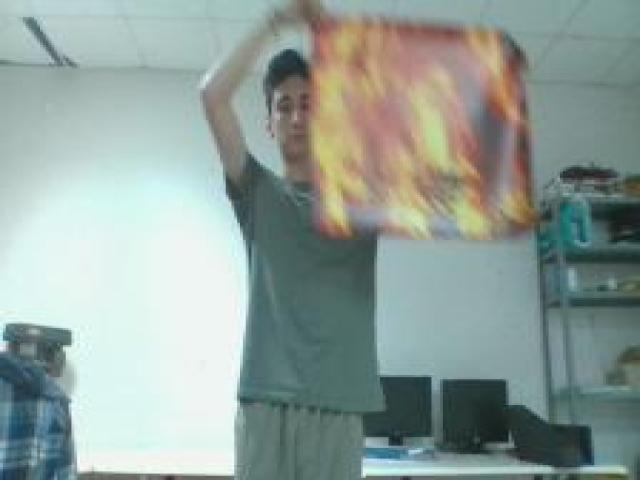fire-poster: (300, 11, 543, 242)
